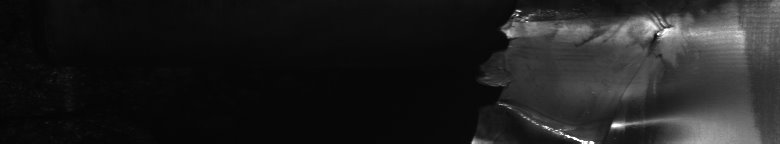ke: (524, 11, 745, 136)
